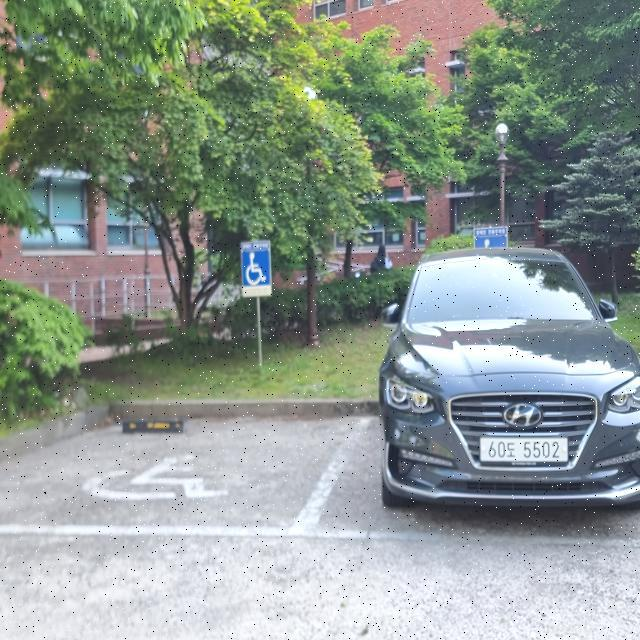empty: (11, 412, 364, 539)
occupied: (377, 243, 640, 546)
